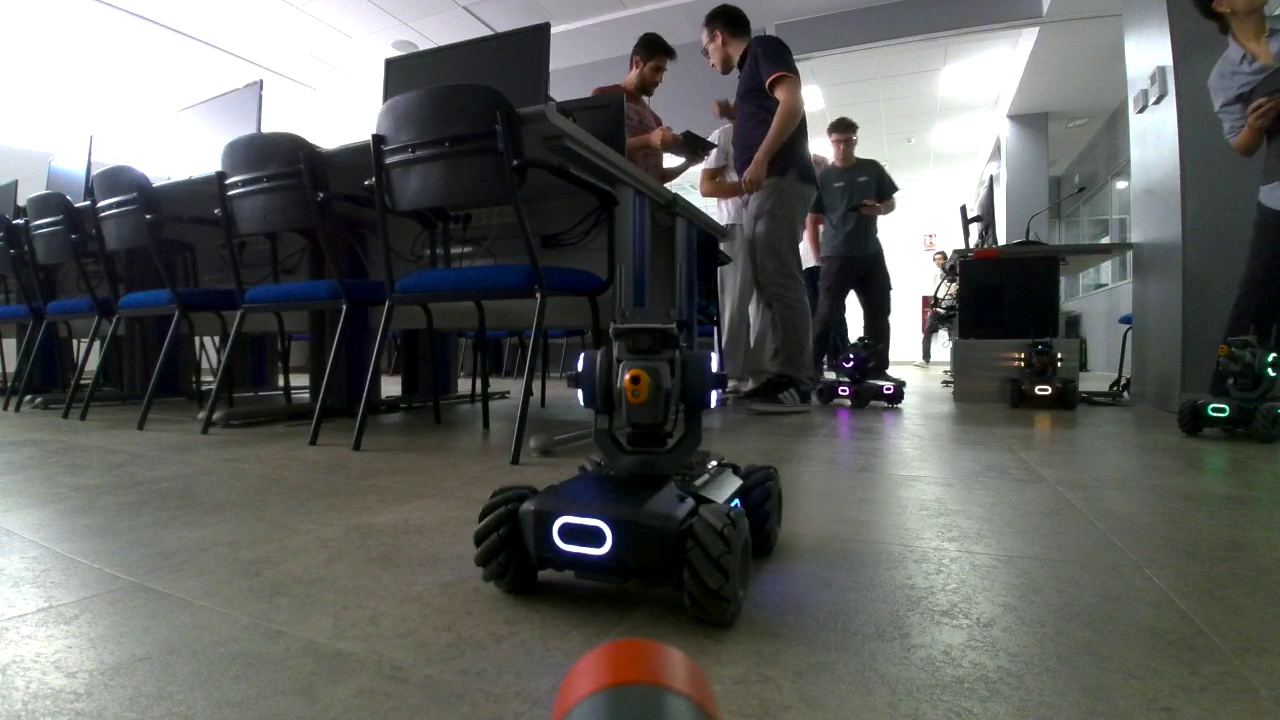robot: (468, 263, 782, 629), (1179, 324, 1280, 439), (817, 338, 906, 409), (1012, 337, 1080, 408)
